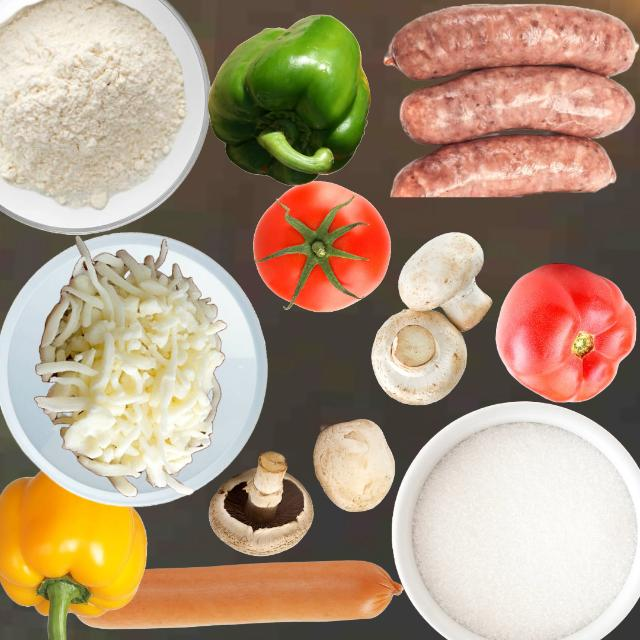Flour: (0, 0, 186, 209)
Sugar: (409, 419, 637, 638)
